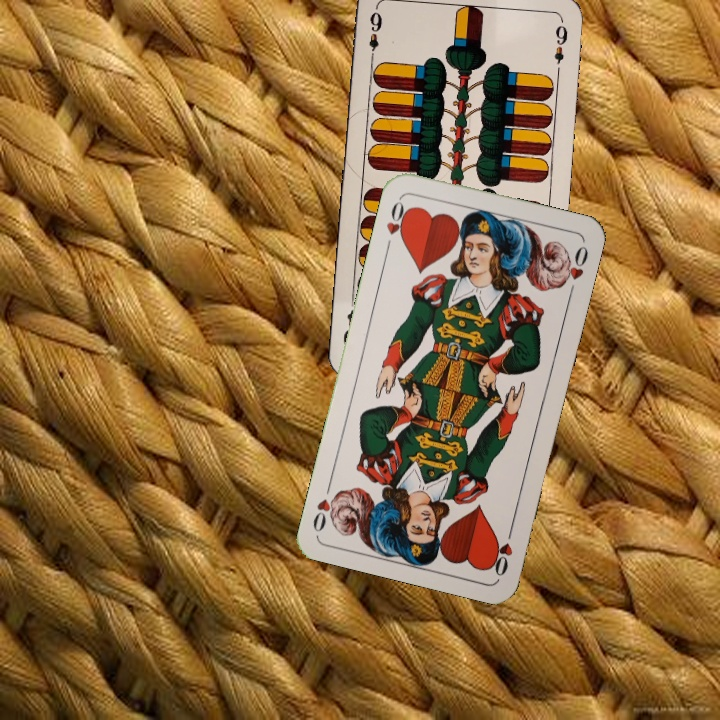E9: (364, 8, 385, 64)
HO: (382, 194, 413, 253), (487, 521, 516, 579)
